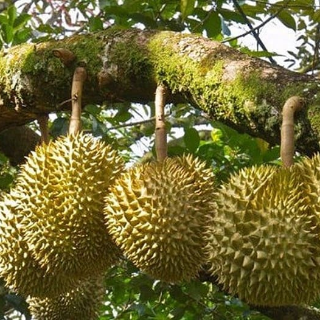sau_rieng: (12, 129, 127, 282), (101, 145, 222, 288)
